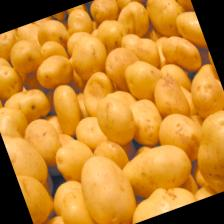potato: (69, 145, 144, 224), (118, 136, 198, 204), (181, 106, 224, 196), (152, 106, 210, 170), (90, 88, 142, 151), (120, 52, 173, 108), (19, 113, 68, 172), (50, 134, 101, 188), (99, 41, 149, 96), (64, 30, 113, 83), (0, 81, 54, 129), (46, 80, 90, 138), (157, 28, 205, 80), (148, 71, 194, 125), (74, 67, 122, 117), (182, 64, 224, 121), (31, 49, 78, 93), (142, 0, 190, 42), (171, 7, 208, 56), (4, 34, 46, 77), (113, 0, 155, 43), (0, 57, 27, 104)
